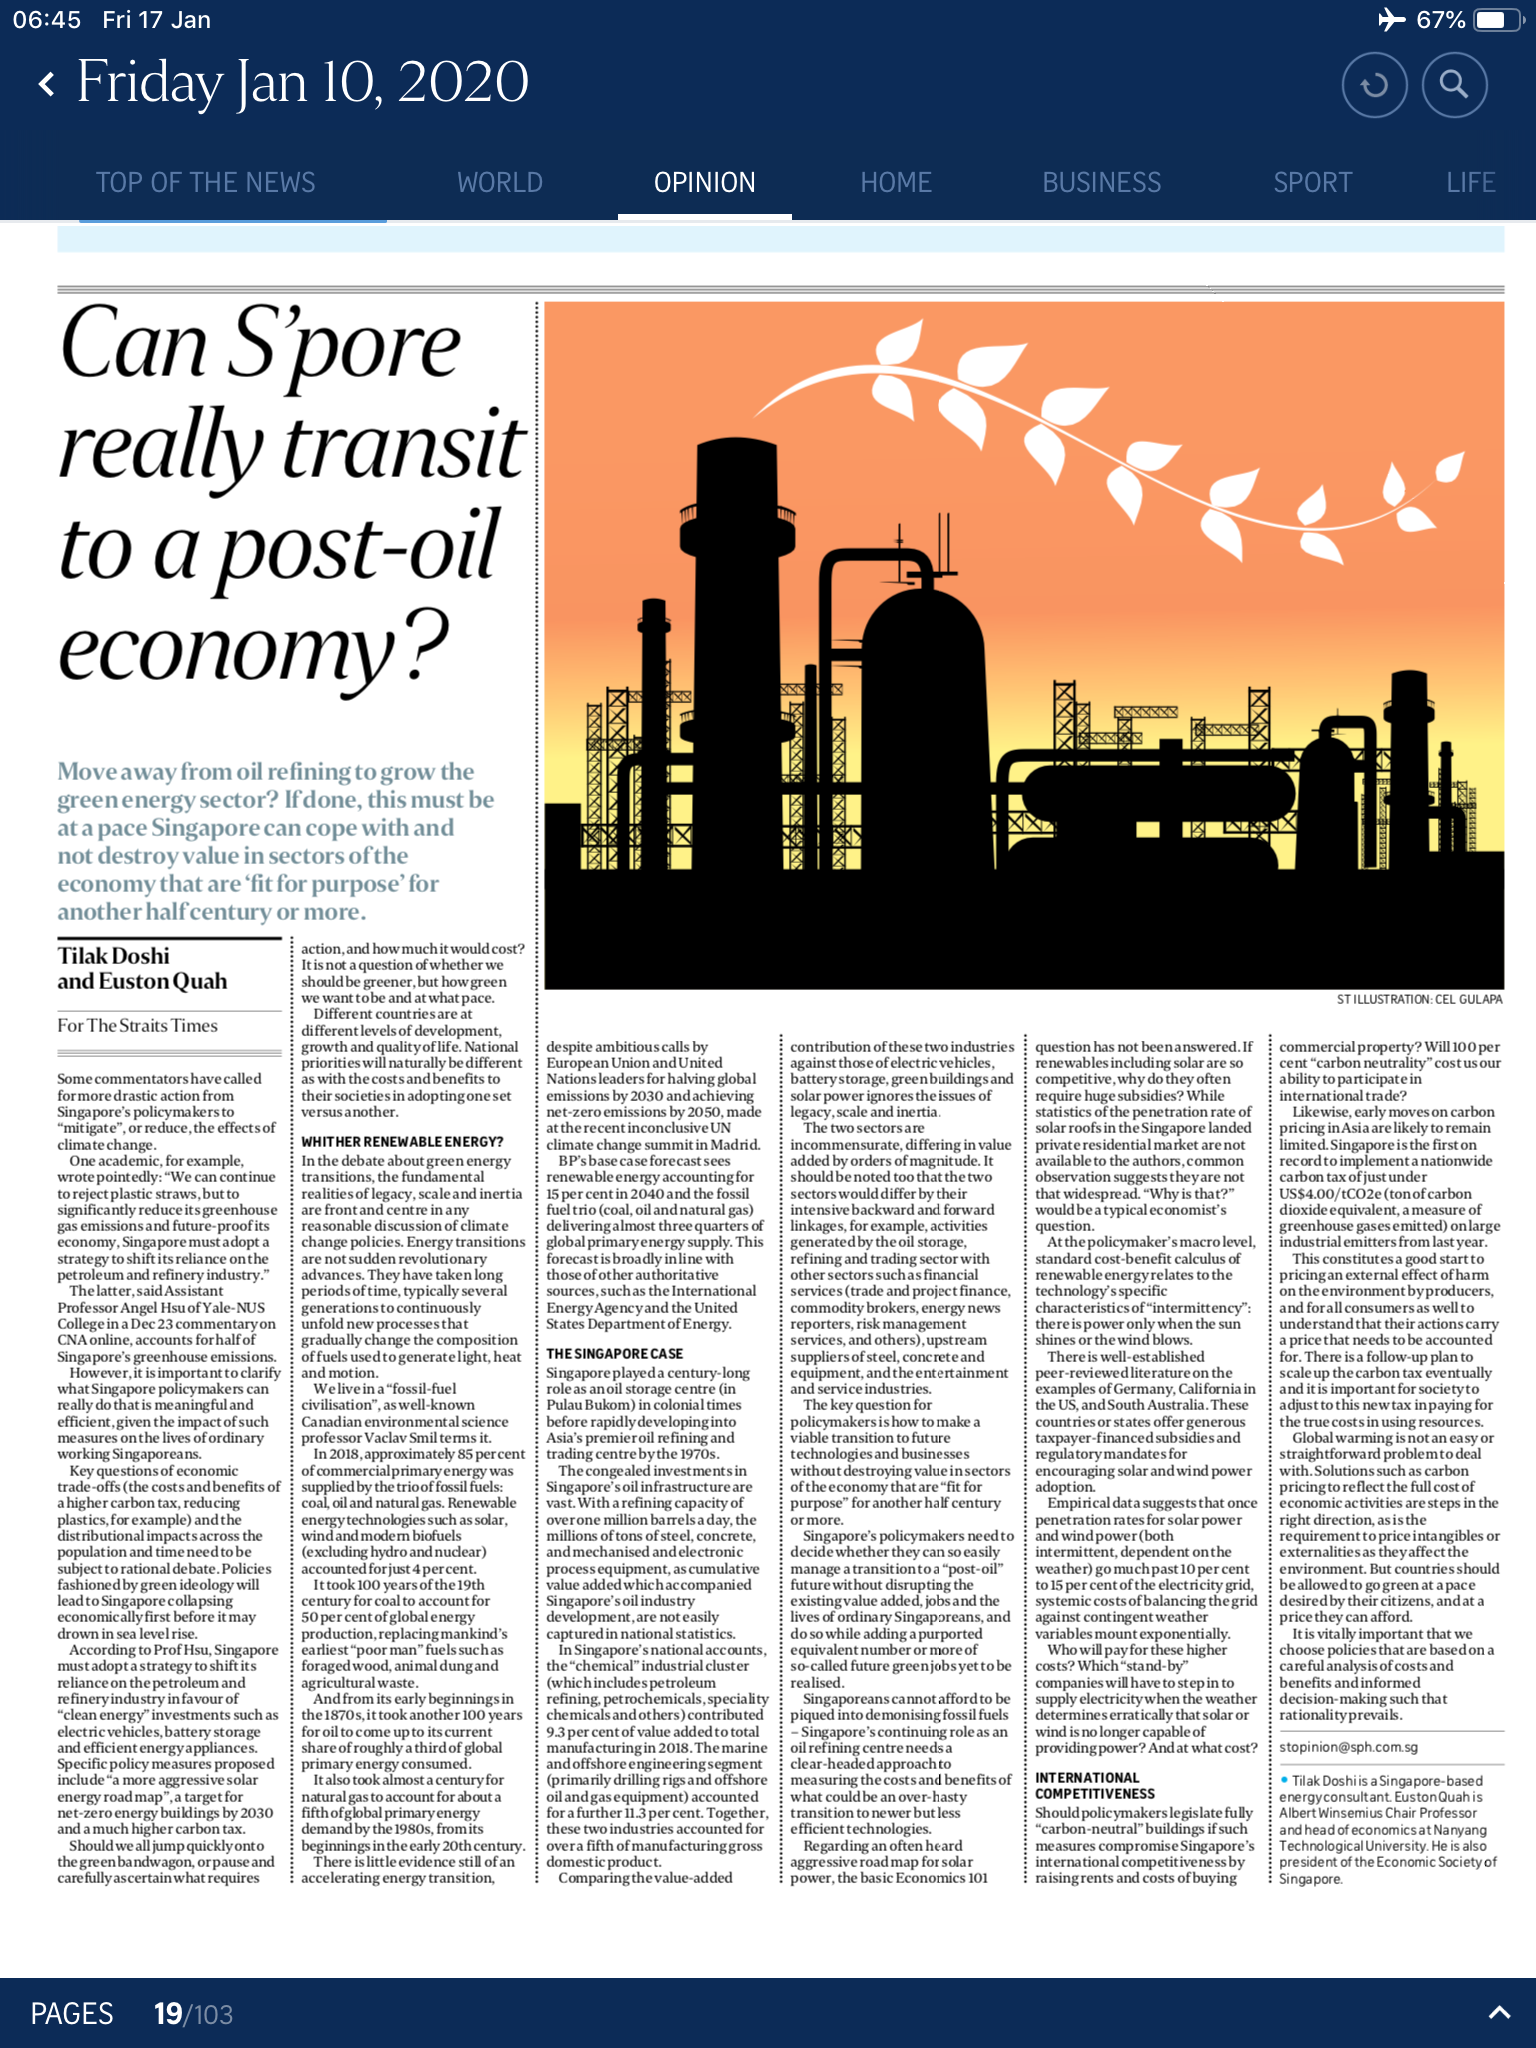Byline: (56, 945, 229, 993)
Headline: (60, 302, 529, 703)
Illustration: (1334, 990, 1505, 1008)
Image: (545, 302, 1505, 989)
Text: (300, 940, 529, 1888), (789, 1039, 1015, 1888), (1029, 1037, 1255, 1887), (544, 1035, 765, 1892), (55, 1071, 281, 1885), (1276, 1035, 1499, 1724), (56, 761, 495, 922), (1278, 1771, 1501, 1887)
